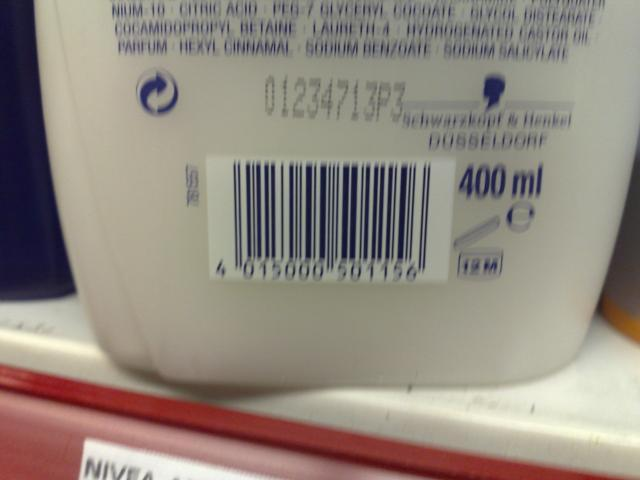Barcode: (206, 155, 454, 285)
